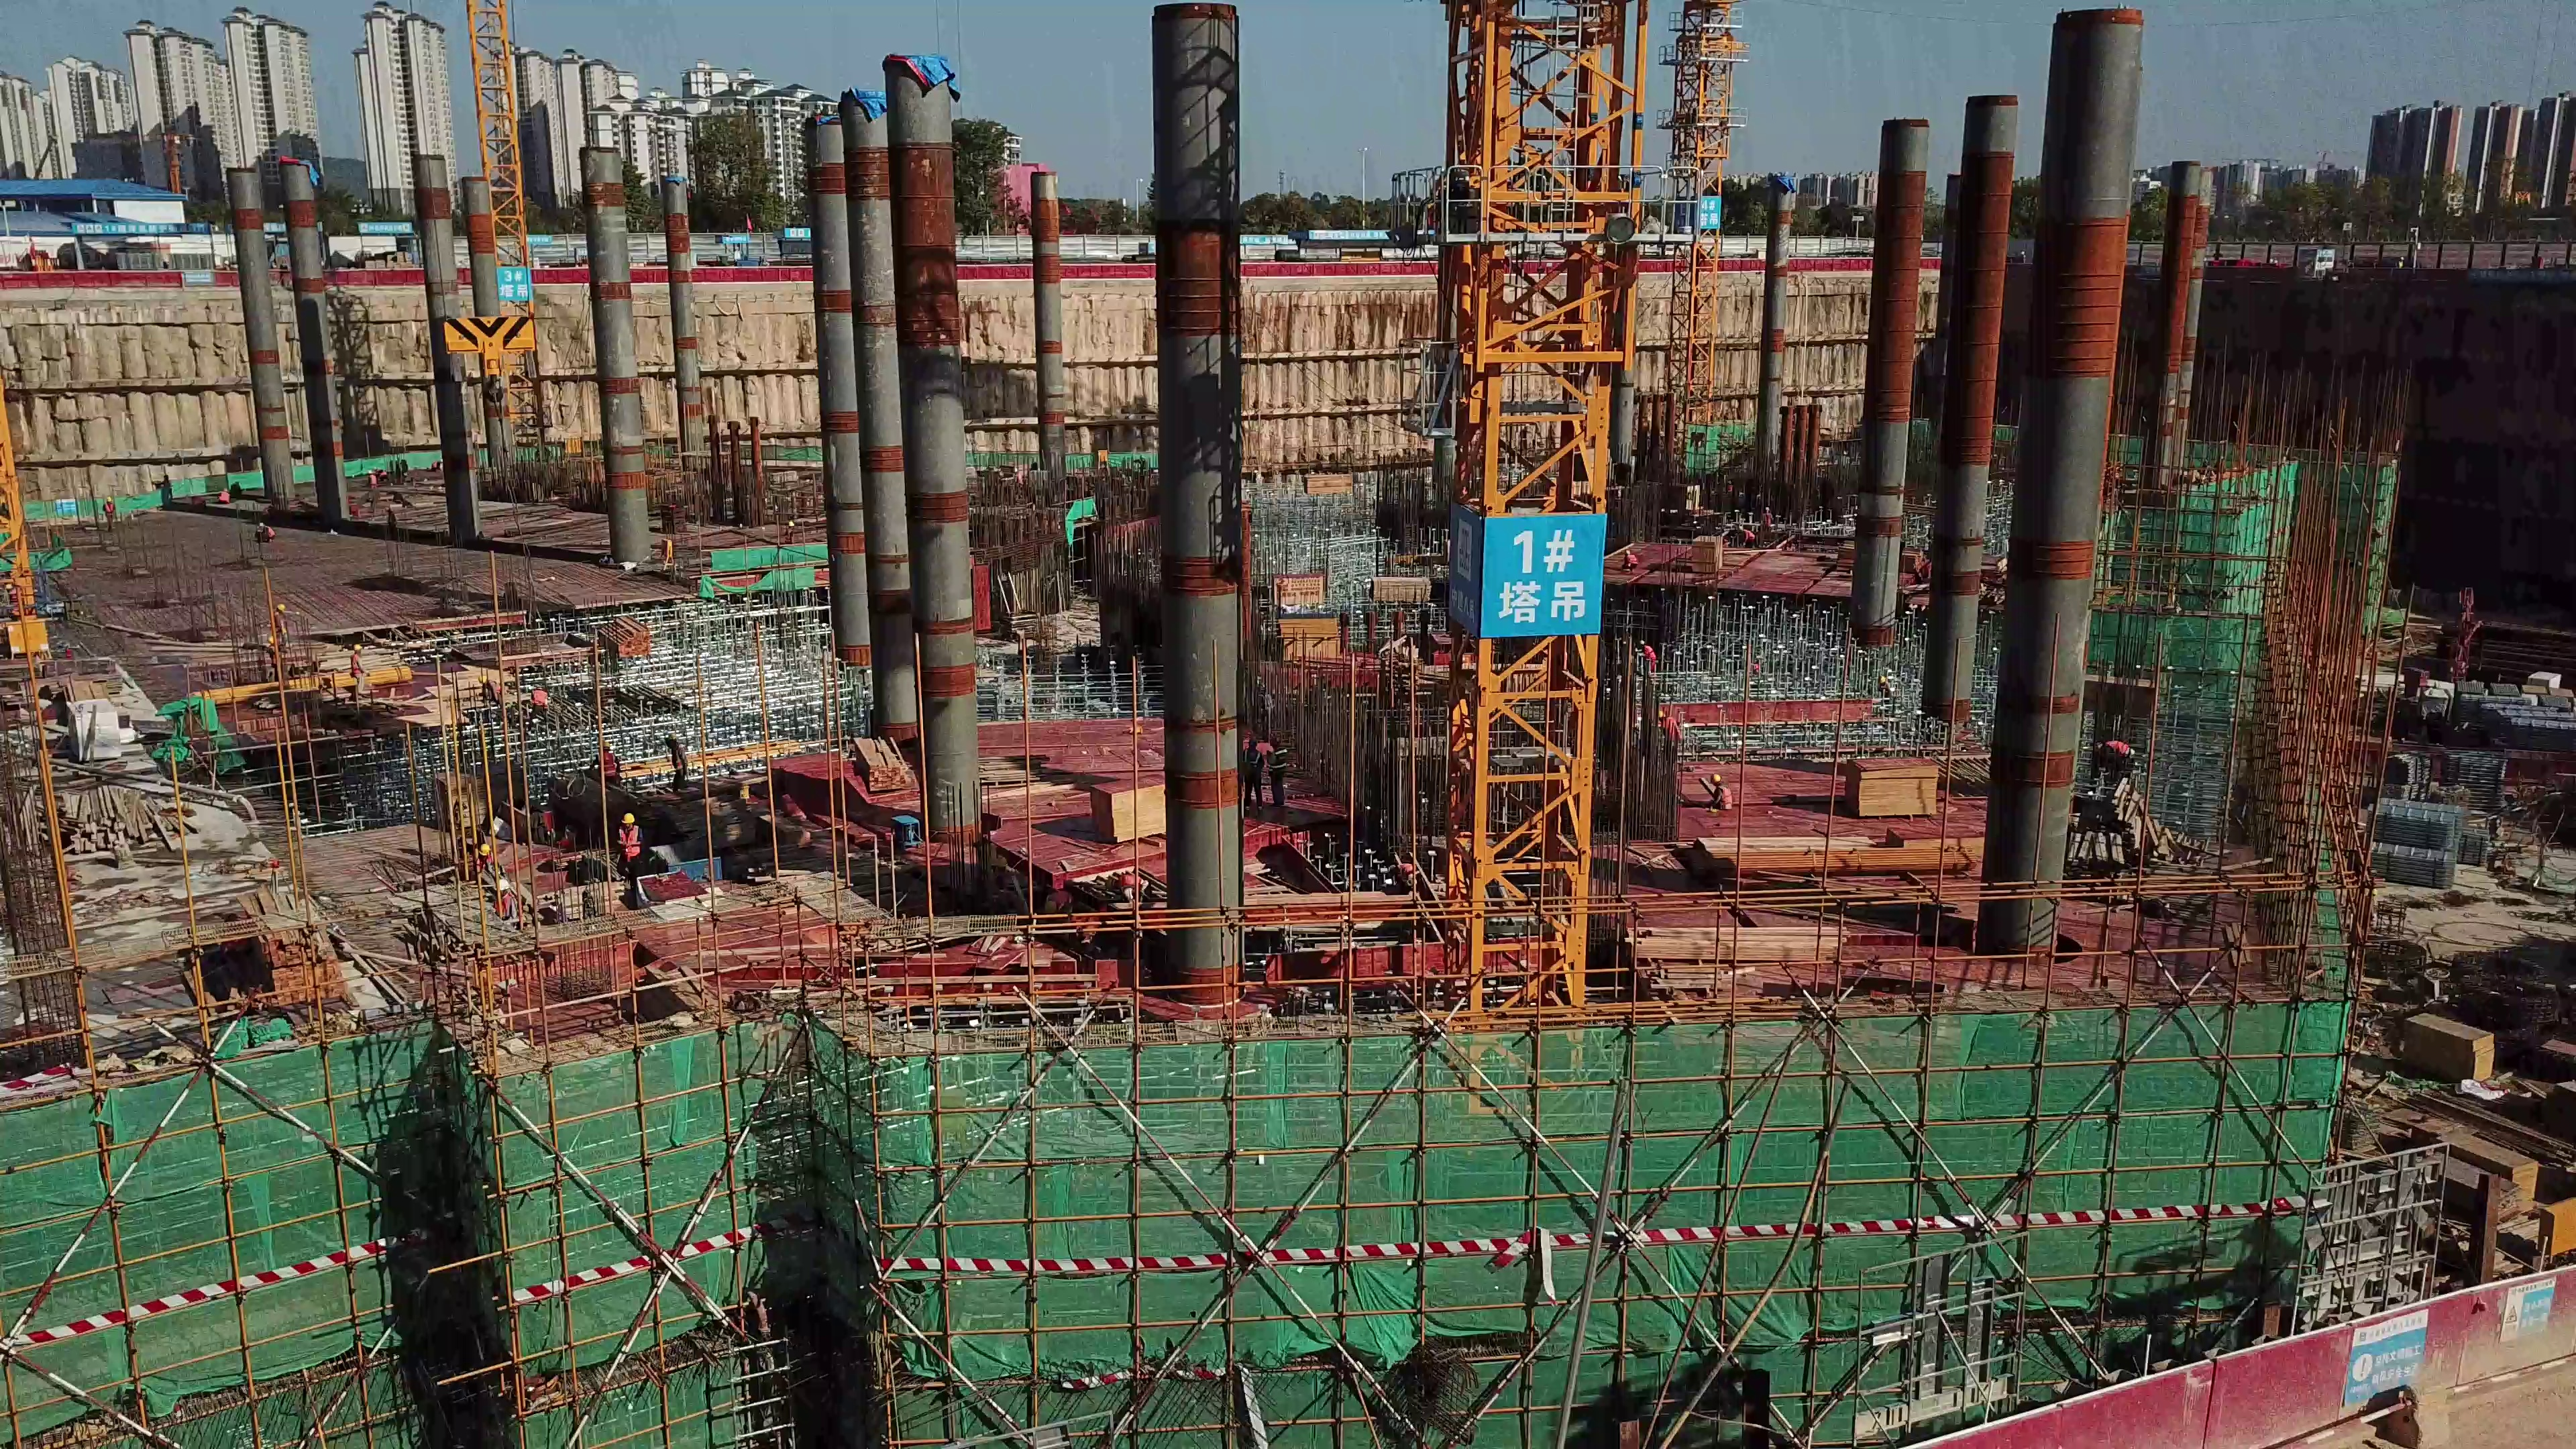board: (1837, 747, 1948, 829), (1091, 768, 1167, 859)
hook: (435, 307, 545, 380)
person: (621, 809, 647, 867)
wood: (35, 792, 178, 876), (846, 742, 916, 812)
